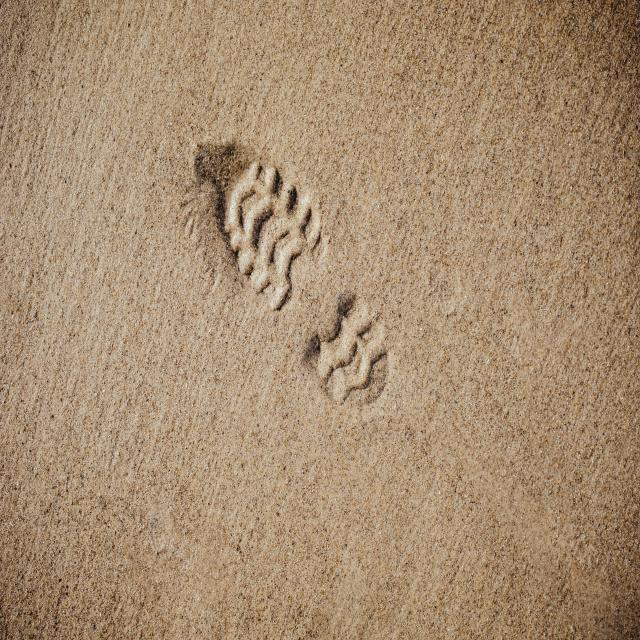human_footprint: (148, 100, 472, 440)
